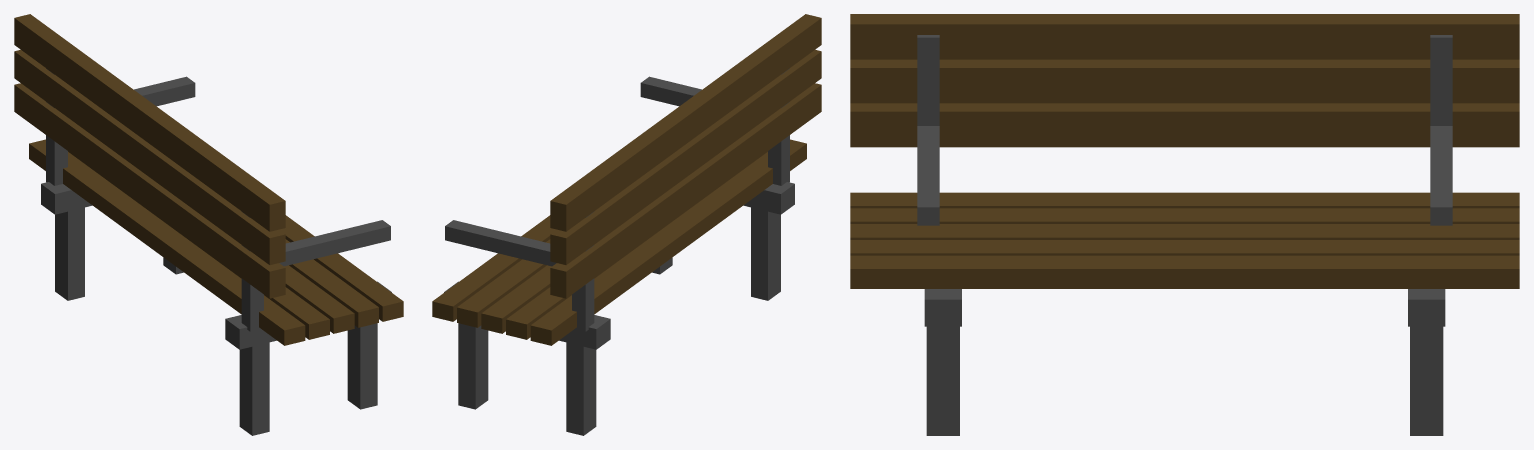
The model's file is bench.fbx.
The picture shows the model from 3 angles, left to right: view 1: azimuth 30°, elevation 25°; view 2: azimuth 150°, elevation 25°; view 3: azimuth 270°, elevation 25°; orthographic projection. The views are drawn at different scales.
Visible parts, largest first — view 1: bench.001; view 2: bench.001; view 3: bench.001.
Boxes of the visible parts, x1,y1,x2,y2 form: bench.001: (14, 14, 403, 435); bench.001: (432, 14, 821, 435); bench.001: (850, 14, 1519, 435).
Bounding box in the file's own units: 0.62 × 0.9925 × 1.8.
